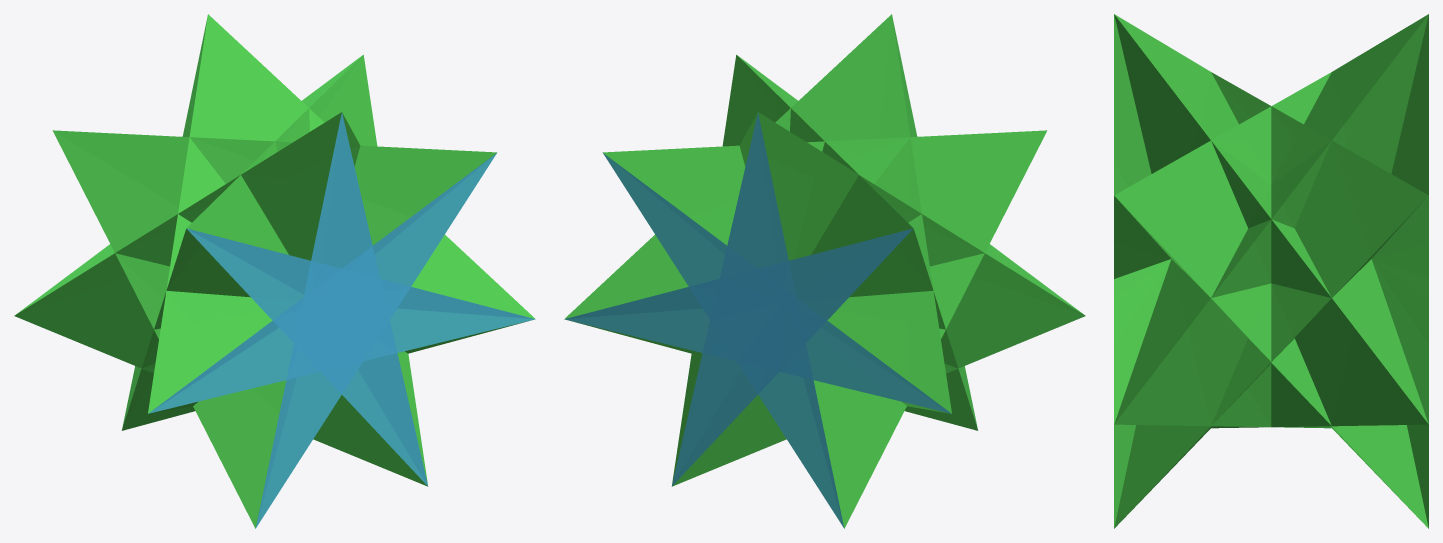
File: HeptagrammicCrossedAntiprism.obj
3 renders of one model, left to right at view 1: azimuth 30°, elevation 25°; view 2: azimuth 150°, elevation 25°; view 3: azimuth 270°, elevation 25°, orthographic. The views are drawn at different scales.
Bounding box in the file's own units: 1 × 0.9749 × 0.5974.
